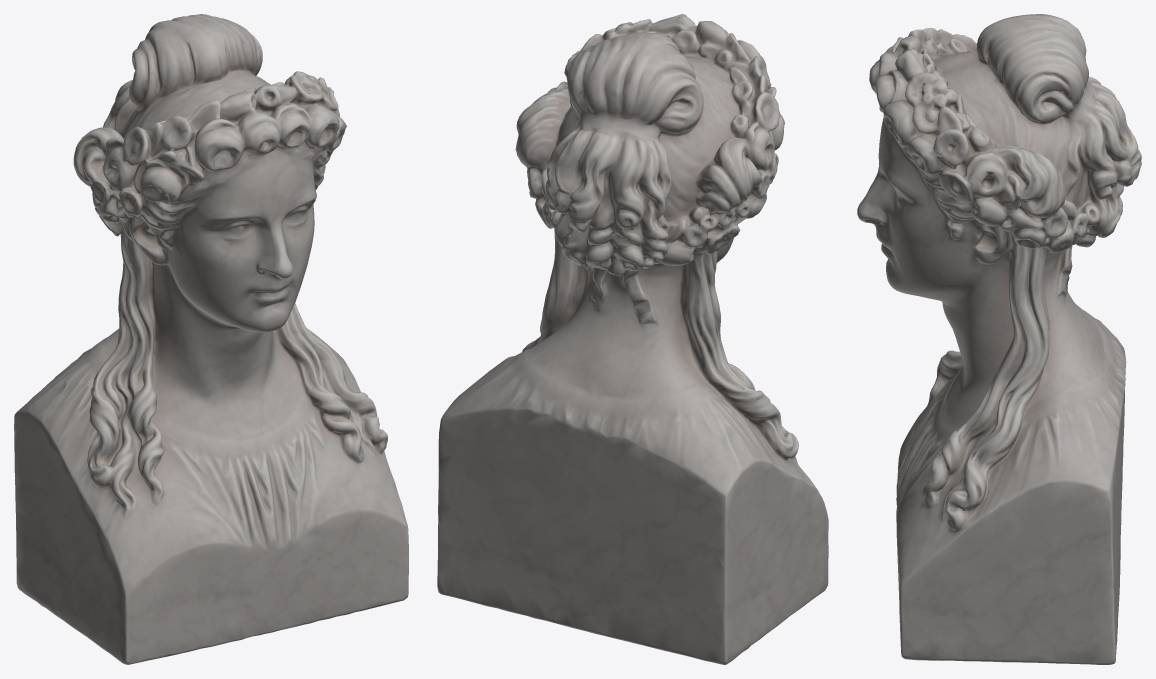
Rendered from karolin_rehfues_bust_12-opt.glb.
3 views of the same model, side by side, from view 1: azimuth 30°, elevation 25°; view 2: azimuth 150°, elevation 25°; view 3: azimuth 270°, elevation 25° (orthographic).
Parts seen in each view (by area): view 1: Karolin_Rehfues_Bust_model; view 2: Karolin_Rehfues_Bust_model; view 3: Karolin_Rehfues_Bust_model.
Boxes of the visible parts, x1,y1,x2,y2 form: Karolin_Rehfues_Bust_model: (14, 14, 408, 664); Karolin_Rehfues_Bust_model: (437, 14, 828, 664); Karolin_Rehfues_Bust_model: (857, 14, 1141, 664).
Bounding box in the file's own units: 42.19 × 76.93 × 34.97.
1 material, 1 textured.
